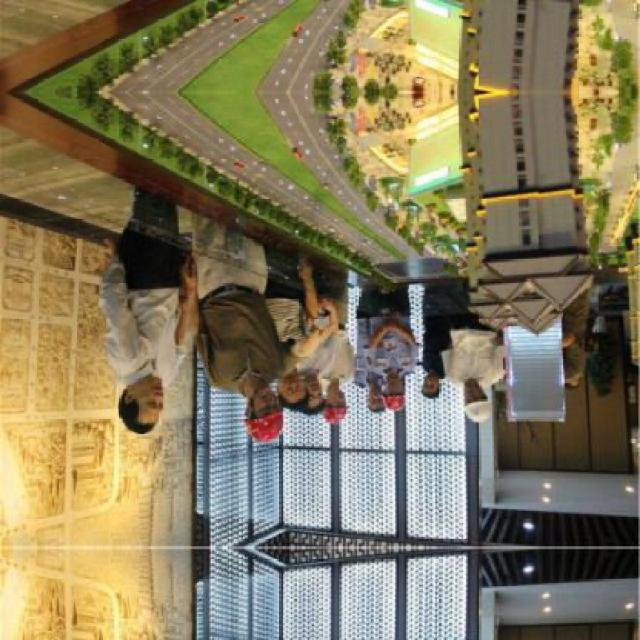con casco: (238, 383, 291, 451), (462, 388, 516, 432), (370, 367, 422, 409), (321, 392, 366, 422)
sin casco: (102, 362, 180, 441), (298, 368, 326, 412), (417, 360, 449, 393)
